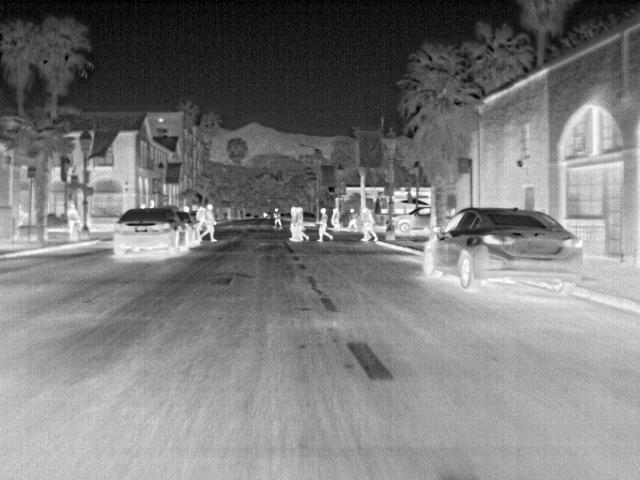car: (419, 206, 584, 294), (110, 206, 185, 262), (388, 206, 428, 232), (177, 210, 196, 245)
person: (198, 202, 221, 244), (358, 206, 381, 246), (290, 207, 314, 245), (315, 207, 334, 244), (65, 202, 82, 240), (346, 205, 359, 231), (271, 206, 284, 231)
